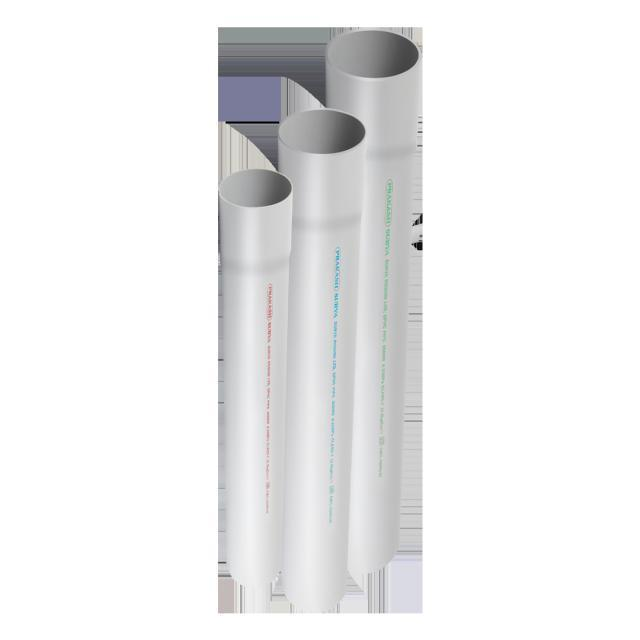pipe: (325, 27, 422, 79), (277, 109, 366, 154), (218, 169, 293, 209)
